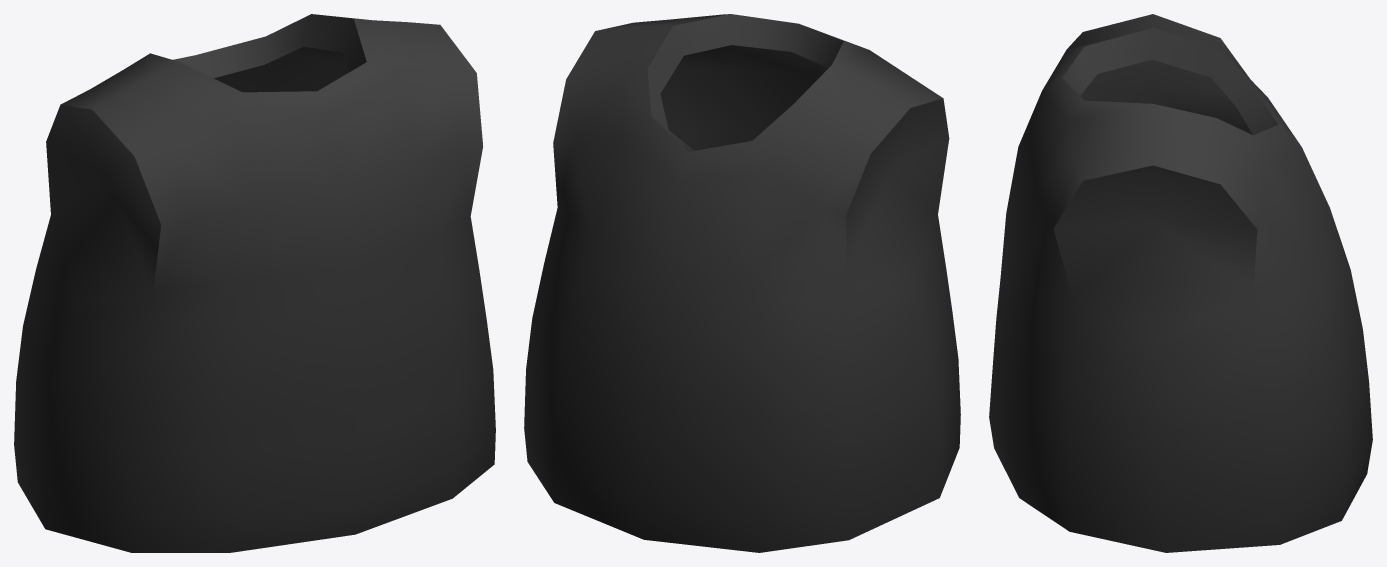
Rendered from Top_39.fbx.
3 views of the same model, side by side, from view 1: azimuth 30°, elevation 25°; view 2: azimuth 150°, elevation 25°; view 3: azimuth 270°, elevation 25° (orthographic). The views are drawn at different scales.
Parts seen in each view (by area): view 1: Top_39; view 2: Top_39; view 3: Top_39.
Part boxes in pixels (<box>): Top_39: <box>14,14,495,552</box>; Top_39: <box>524,14,960,552</box>; Top_39: <box>989,14,1372,552</box>.
Size of the model in its own units: 40.41 by 41.36 by 35.24.
